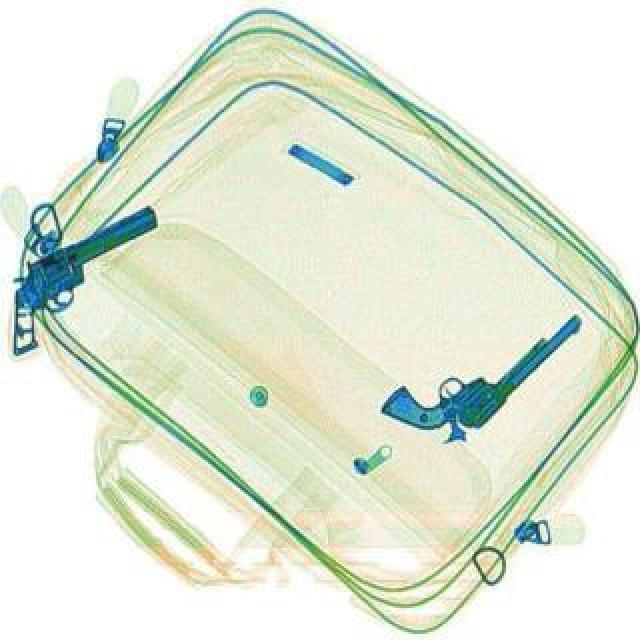gun: (374, 264, 584, 462), (0, 202, 180, 328)
